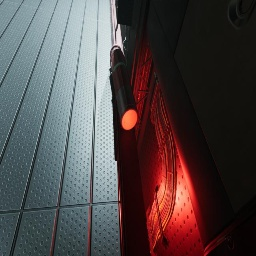NitrogenTank ,: (110, 44, 138, 130)
